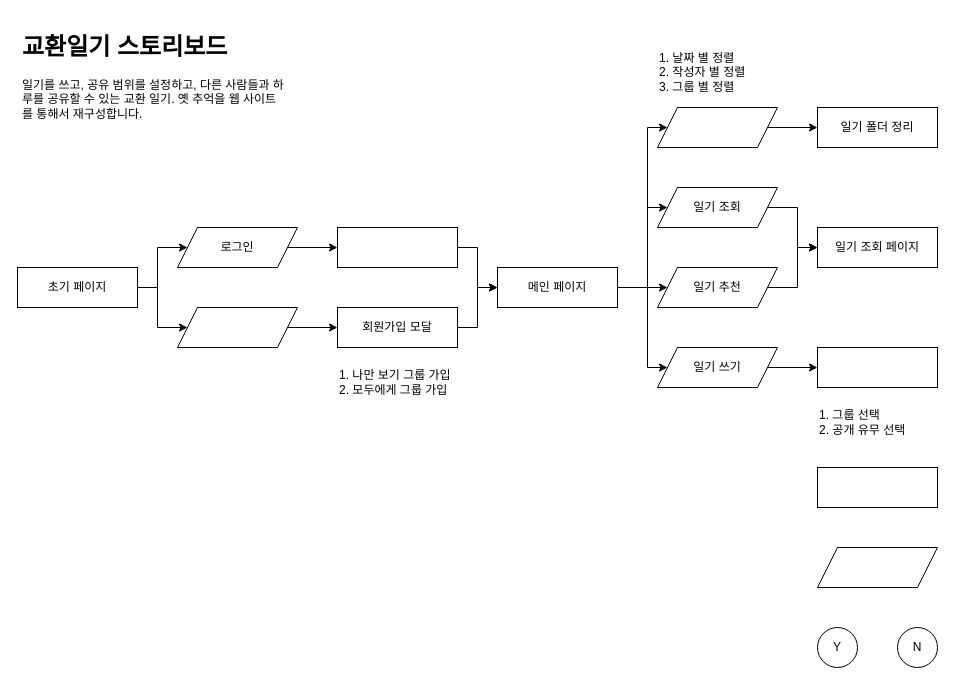
Some shapes in this 965 by 685 pixel diagram are drawn without their labels. The box of each missing label's shape, as (x1, y1, x2, y2) in pixels:
로그인 모달: (336, 226, 458, 268)
분기 / 선택지: (816, 546, 938, 588)
일기 작성 페이지: (816, 346, 938, 388)
일기 정렬: (656, 106, 778, 148)
페이지 / 뷰: (816, 466, 938, 508)
회원가입: (176, 306, 298, 348)
